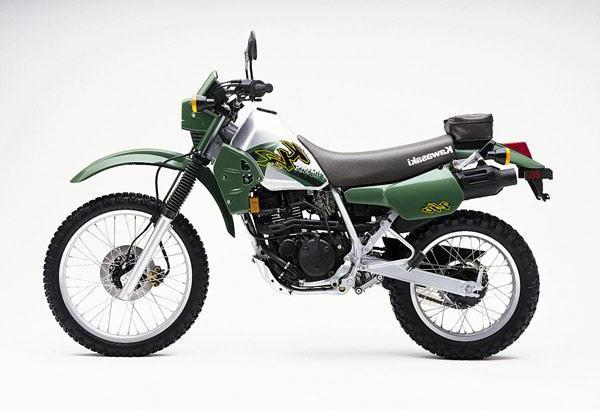motorcycle: (29, 21, 564, 378)
